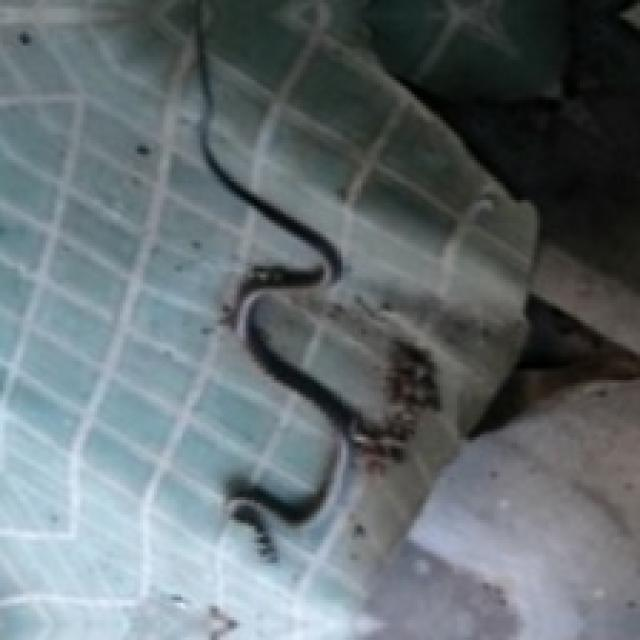paradise tree snake: (194, 0, 437, 460)
